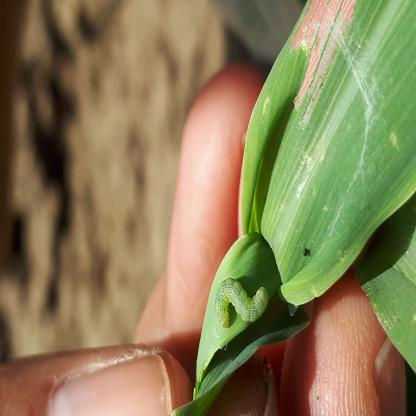armyworm: (47, 380, 79, 416)
